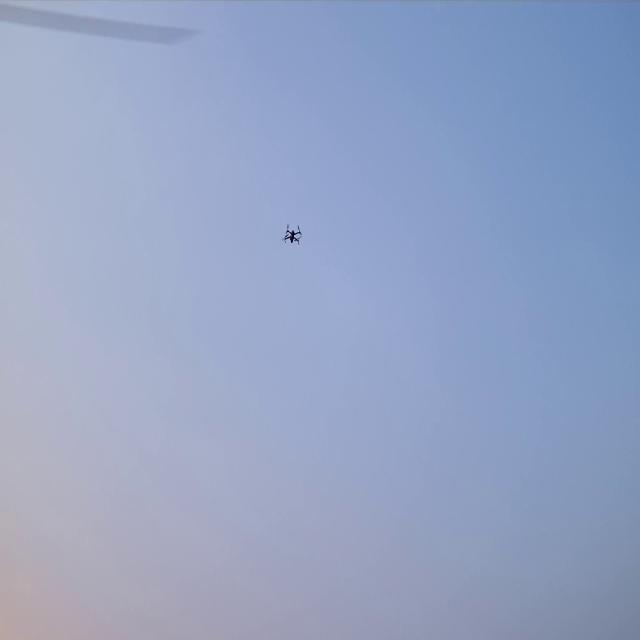UAV: (280, 221, 304, 246)
